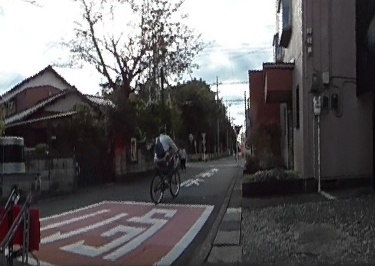person: (151, 126, 176, 191), (178, 144, 187, 172)
